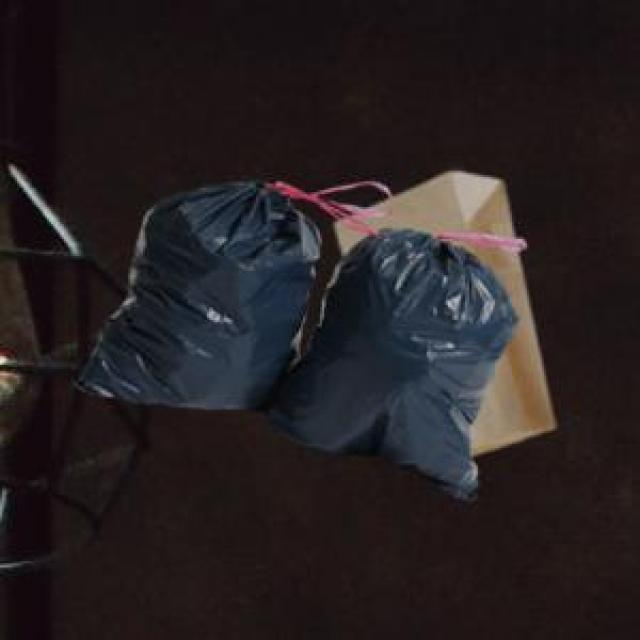miscellaneous trash: (70, 177, 523, 495)
paper: (331, 169, 550, 450)
